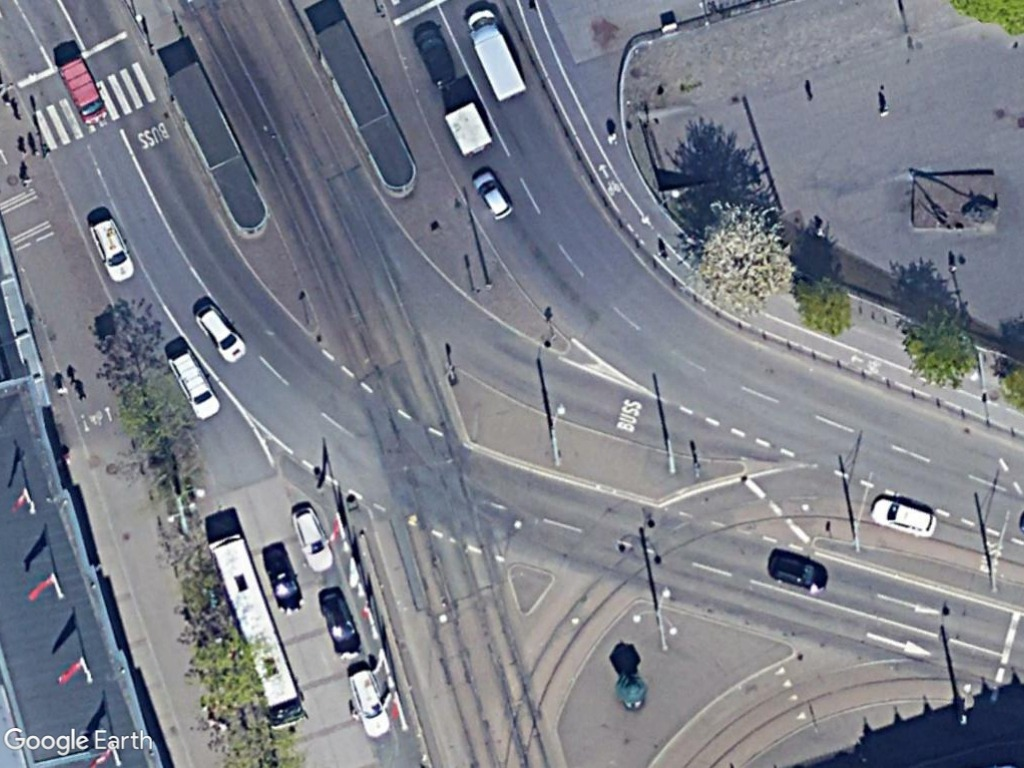bus: (202, 531, 306, 734)
car: (864, 491, 943, 543), (86, 212, 140, 288), (285, 499, 339, 574), (191, 299, 249, 367), (406, 19, 459, 90), (260, 542, 309, 617), (343, 666, 390, 743), (316, 583, 364, 656), (766, 547, 832, 595), (470, 165, 516, 224)
truck: (463, 4, 532, 106)
van: (160, 342, 223, 427), (53, 54, 111, 131)
